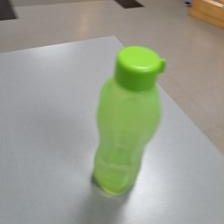bottle: (88, 44, 168, 198)
